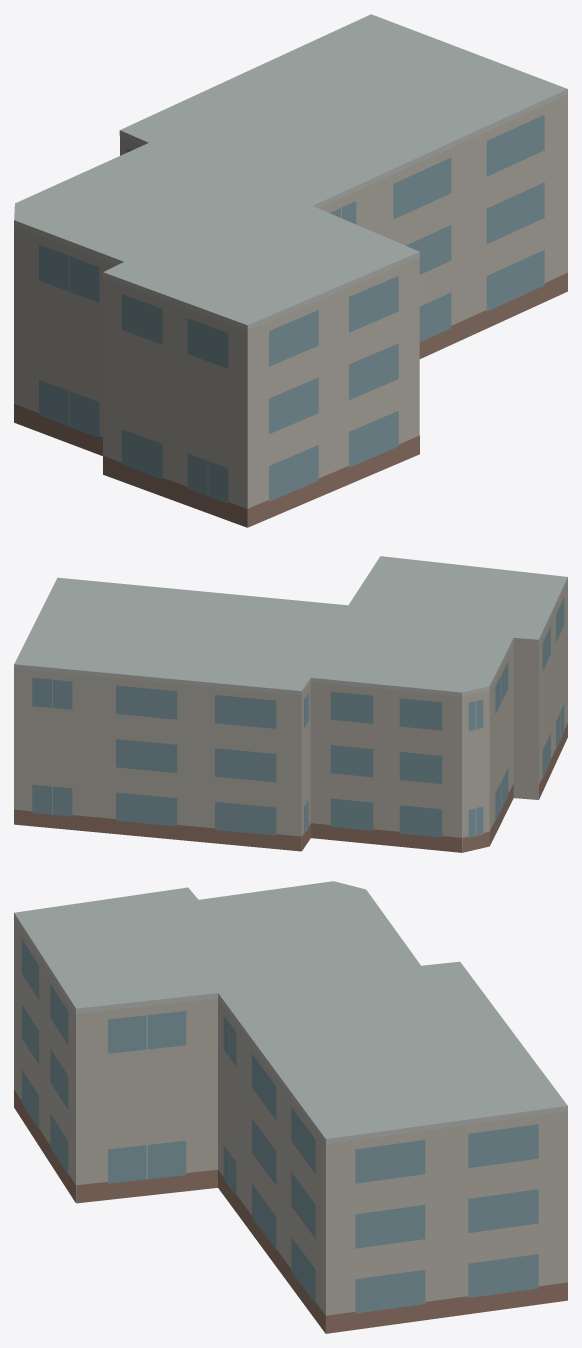
Rendered from survey-upis-32934698.glb.
3 renders of one model, top to bottom at view 1: azimuth 30°, elevation 25°; view 2: azimuth 150°, elevation 25°; view 3: azimuth 270°, elevation 25°, orthographic. The views are drawn at different scales.
Visible parts, largest first — view 1: survey-upis-32934698.tmp; view 2: survey-upis-32934698.tmp; view 3: survey-upis-32934698.tmp.
Boxes of the visible parts, <box> form: survey-upis-32934698.tmp: <box>14,14,567,527</box>; survey-upis-32934698.tmp: <box>14,556,567,852</box>; survey-upis-32934698.tmp: <box>14,881,567,1333</box>.
Bounding box in the file's own units: 26.01 × 9.15 × 23.59.
